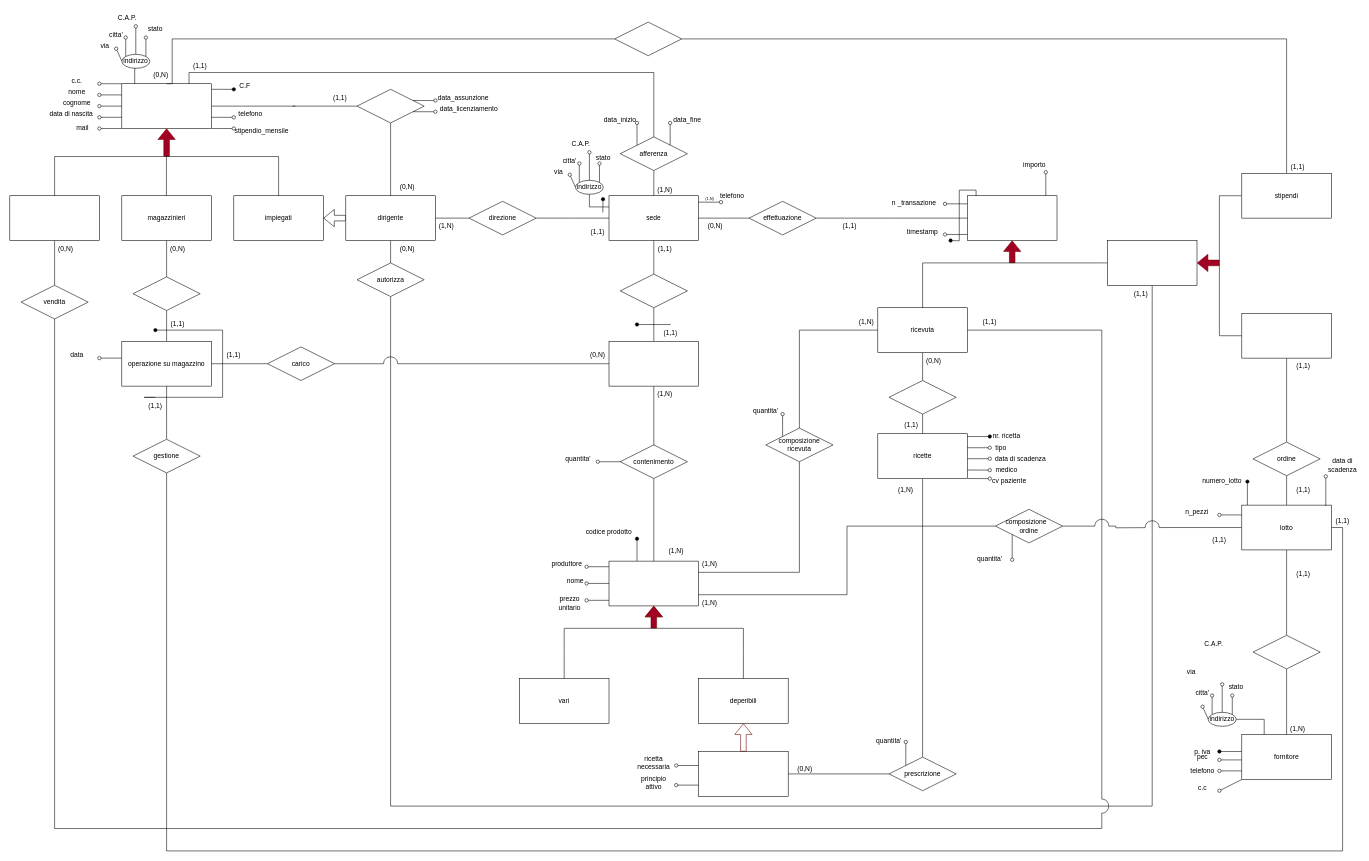
The diagram is 1369 pixels wide and 861 high, and some of its shapes have lost their labels. Each missing label, with the centre of its shape:
acquisto: (x=1286, y=335)
appartenenza: (x=653, y=291)
assunzione: (x=390, y=106)
dipendenti: (x=166, y=106)
farmaci con ricetta: (x=743, y=773)
farmacisti: (x=54, y=218)
magazzino: (x=653, y=363)
prodotti: (x=653, y=583)
R-R: (x=922, y=397)
registrazione: (x=166, y=293)
retribuzione: (x=648, y=39)
rifornimento: (x=1286, y=652)
transazione: (x=1012, y=218)
transazione uscente: (x=1152, y=262)
